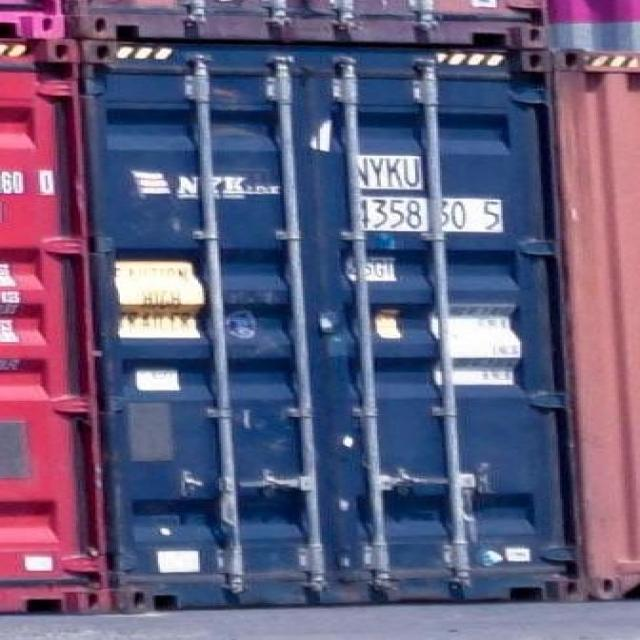ISO: (352, 256, 399, 285)
container_number: (352, 150, 509, 234), (0, 171, 56, 197)
